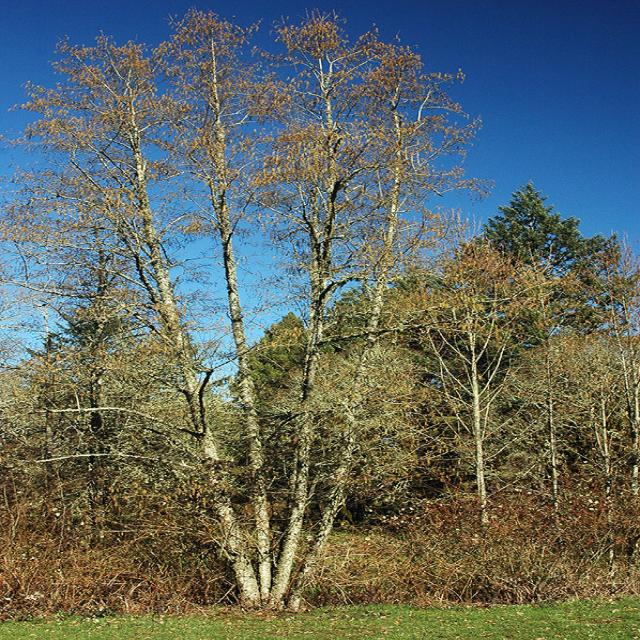Alnus rhombifolia: (9, 2, 487, 608)
